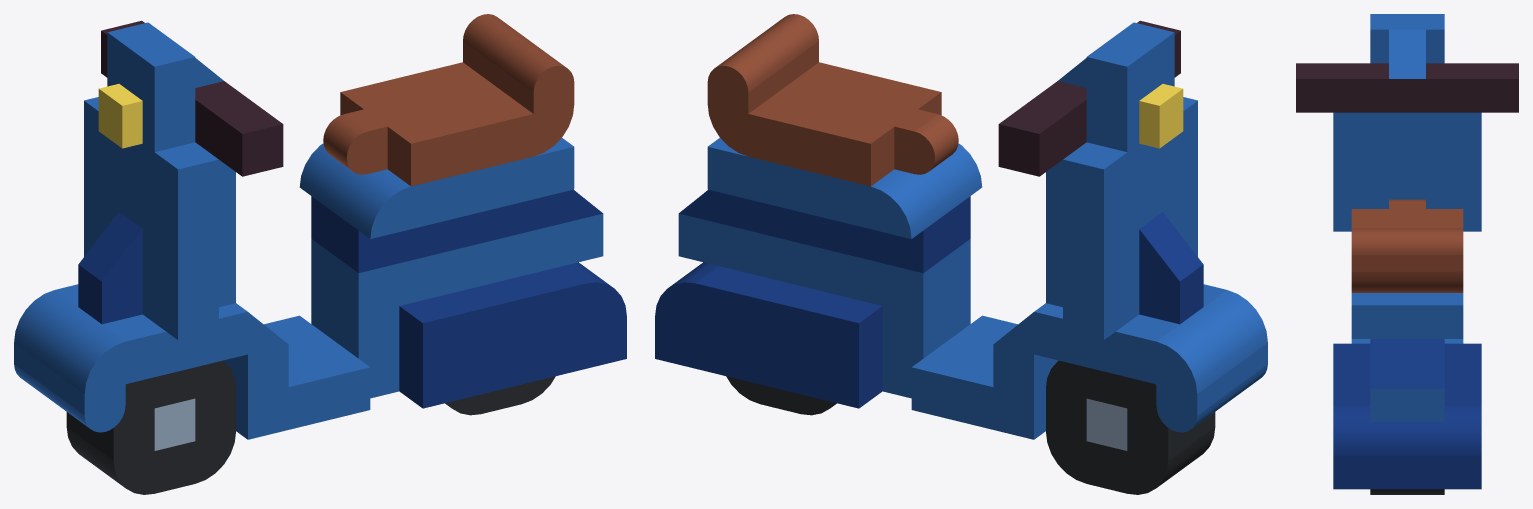
Rendered from EnnemiBike.fbx.
The picture shows the model from 3 angles, left to right: view 1: azimuth 30°, elevation 25°; view 2: azimuth 150°, elevation 25°; view 3: azimuth 270°, elevation 25°; orthographic projection. The views are drawn at different scales.
Parts seen in each view (by area): view 1: generated; view 2: generated; view 3: generated.
Boxes of the visible parts, <box> form: generated: <box>14,14,626,494</box>; generated: <box>655,14,1267,494</box>; generated: <box>1296,14,1518,494</box>.
Bounding box in the file's own units: 130 × 100 × 60.
